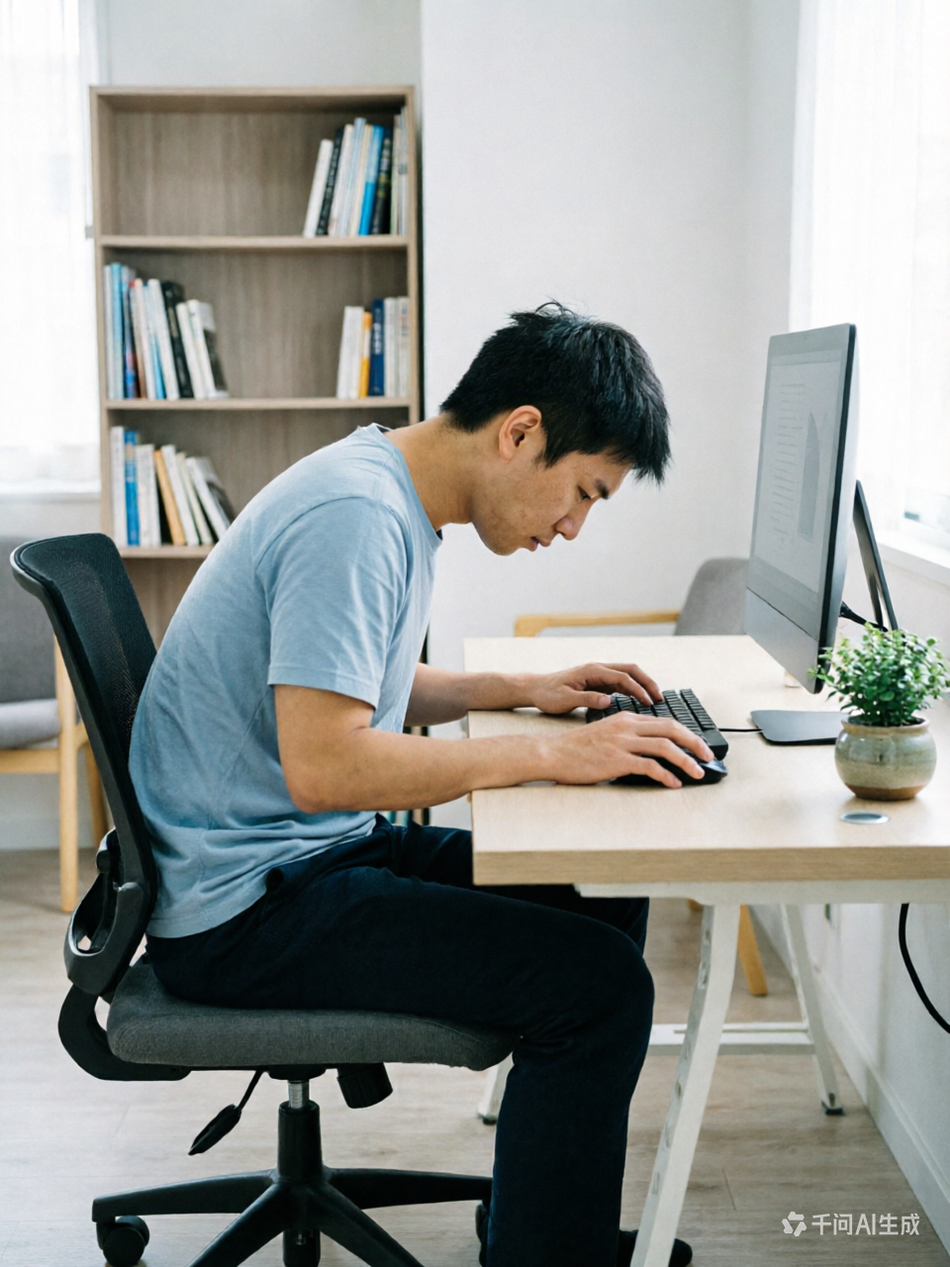sitting_bad: (119, 304, 706, 1247)
